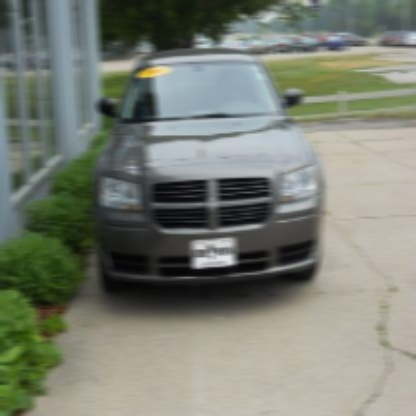Vehicle: (100, 43, 321, 288)
